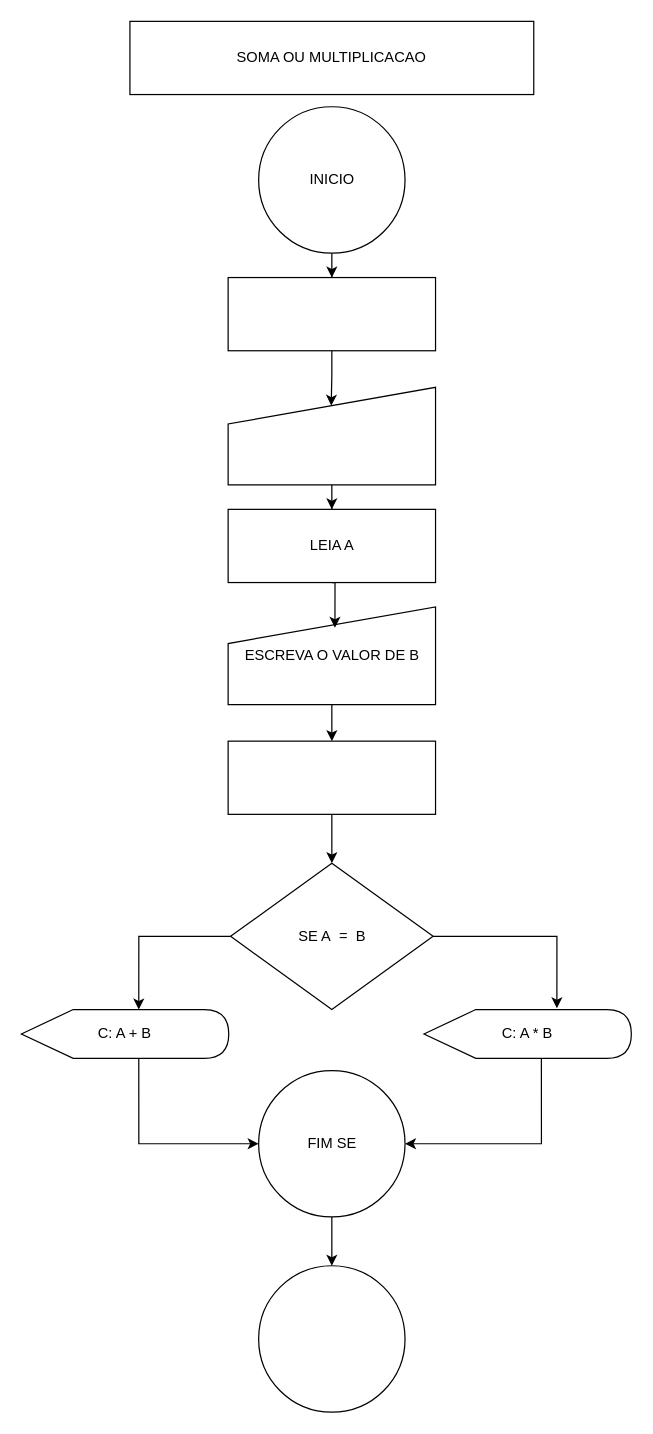
This 653x1434 diagram has some shape labels left out. The centre of each missing label's shape, as x and y in pixels:
A, B, C: INTEIRO: point 331,313
ESCREVA O VALOR DE A: point 331,435
FIM: point 331,1338
LEIA B: point 331,777
